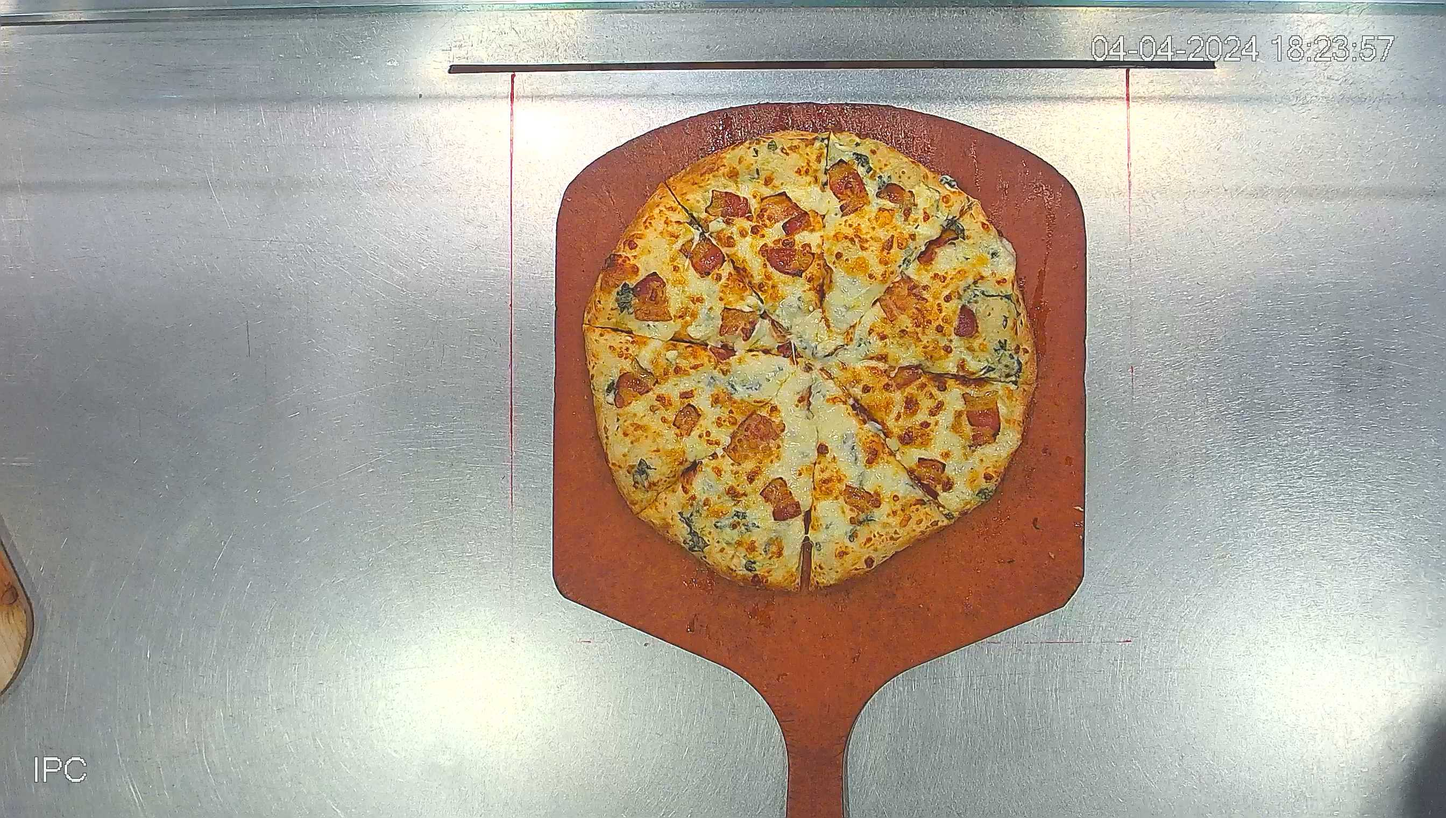pepporoni: (581, 126, 1041, 596)
